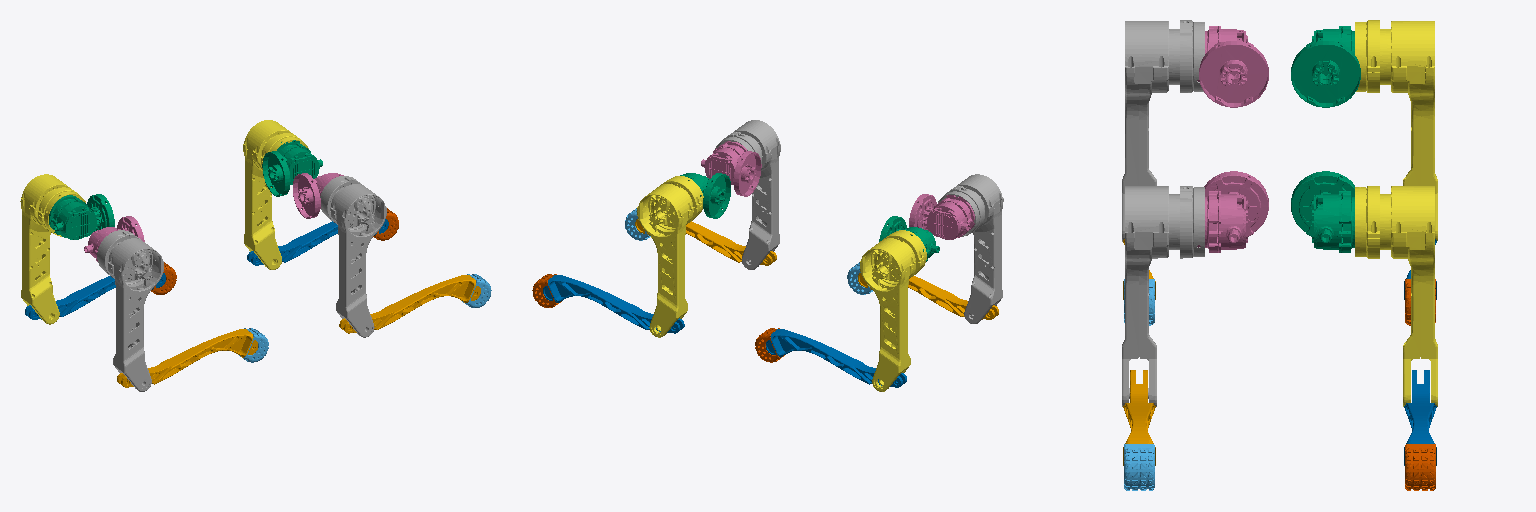
robot.urdf — bpx:
<?xml version="1.0"?>
<robot name="bpx">
  <!-- ROS 표준 루트: base_link -> torso (zero offset). 원본 mirrormerobotics/BPX 에는 없음 -->
  <link name="base_link" />
  <joint name="base_link_to_torso" type="fixed">
    <parent link="base_link" />
    <child link="torso" />
    <origin xyz="0 0 0" rpy="0 0 0" />
  </joint>
  <link name="torso">
    <visual>
      <origin xyz="0 0 0" rpy="0 0 0" />
      <geometry>
        <mesh filename="package://bpx_ros/meshes/torso.obj" />
      </geometry>
    </visual>
    <collision>
      <origin xyz="0 0 0" rpy="0 0 0" />
      <geometry>
        <box size="0.3412 0.16 0.1582" />
      </geometry>
    </collision>
    <collision>
      <origin xyz="0 0 -0.09" rpy="0 0 0" />
      <geometry>
        <box size="0.3412 0.16 0.028" />
      </geometry>
    </collision>
    <collision>
      <origin xyz="0.28 0 0" rpy="0 0 0" />
      <geometry>
        <box size="0.01329 0.136 0.026" />
      </geometry>
    </collision>
    <collision>
      <origin xyz="-0.28 0 0" rpy="0 0 0" />
      <geometry>
        <box size="0.01329 0.136 0.026" />
      </geometry>
    </collision>
    <inertial>
      <origin xyz="0.0151448 0.0033341 -0.0031076" rpy="0 0 0" />
      <mass value="6.829" />
      <inertia ixx="0.0291671" ixy="0.0019891" ixz="0.0003146" iyy="0.1285119" iyz="0.0000812" izz="0.1380718" />
    </inertial>
  </link>
  <link name="fl_hip_link">
    <visual>
      <origin xyz="0 0 0" rpy="0 0 0" />
      <geometry>
        <mesh filename="package://bpx_ros/meshes/hip.obj" />
      </geometry>
    </visual>
    <inertial>
      <origin xyz="-0.0116642 0.0141251 0.000331" rpy="0 0 0" />
      <mass value="0.554" />
      <inertia ixx="0.00033" ixy="0.00004" ixz="0" iyy="0.00042" iyz="0" izz="0.000375" />
    </inertial>
  </link>
  <link name="fl_thigh_link">
    <visual>
      <origin xyz="0 0 0" rpy="0 0 0" />
      <geometry>
        <mesh filename="package://bpx_ros/meshes/l_thigh.obj" />
      </geometry>
    </visual>
    <collision>
      <origin xyz="0 -0.02482 0" rpy="-1.5707963 0 0" />
      <geometry>
        <cylinder radius="0.044" length="0.08" />
      </geometry>
    </collision>
    <collision>
      <origin xyz="-0.02 0.0017152 -0.11" rpy="-1.5707963 0 0" />
      <geometry>
        <box size="0.045 0.13 0.029" />
      </geometry>
    </collision>
    <inertial>
      <origin xyz="-0.003 -0.021 -0.05052" rpy="0 0 0" />
      <mass value="1.213" />
      <inertia ixx="0.0083046" ixy="-0.0000872" ixz="0.0003596" iyy="0.008163" iyz="-0.0013242" izz="0.0013678" />
    </inertial>
  </link>
  <link name="fl_calf_link">
    <visual>
      <origin xyz="0 0 0" rpy="0 0 0" />
      <geometry>
        <mesh filename="package://bpx_ros/meshes/calf.obj" />
      </geometry>
    </visual>
    <collision>
      <origin xyz="0.01 0 -0.1" rpy="0 -0.1396263 0" />
      <geometry>
        <box size="0.02 0.02 0.15" />
      </geometry>
    </collision>
    <collision>
      <origin xyz="0.011 0 -0.205" rpy="0 0.1221731 0" />
      <geometry>
        <box size="0.03 0.02 0.07" />
      </geometry>
    </collision>
    <inertial>
      <origin xyz="0.0057553 0 -0.10442" rpy="0 0 0" />
      <mass value="0.253" />
      <inertia ixx="0.00199" ixy="0" ixz="-0.0001442" iyy="0.00201" iyz="0" izz="0.00005" />
    </inertial>
  </link>
  <link name="fl_toe_link">
    <visual>
      <origin xyz="0 0 0" rpy="0 0 0" />
      <geometry>
        <mesh filename="package://bpx_ros/meshes/toe.obj" />
      </geometry>
    </visual>
    <collision>
      <origin xyz="0 0 -0.012" rpy="-1.5707963 0 0" />
      <geometry>
        <cylinder radius="0.027" length="0.0358" />
      </geometry>
    </collision>
    <inertial>
      <origin xyz="-0.0089593 0 -0.014631" rpy="0 0 0" />
      <mass value="0.062" />
      <inertia ixx="0.000019" ixy="0" ixz="0.0000027" iyy="0.0000263" iyz="0" izz="0.0000225" />
    </inertial>
  </link>
  <link name="fr_hip_link">
    <visual>
      <origin xyz="0 0 0" rpy="3.1416 0 0" />
      <geometry>
        <mesh filename="package://bpx_ros/meshes/hip.obj" />
      </geometry>
    </visual>
    <inertial>
      <origin xyz="-0.0116642 -0.0141251 0.000331" rpy="0 0 0" />
      <mass value="0.554" />
      <inertia ixx="0.00033" ixy="-0.00004" ixz="0" iyy="0.00042" iyz="0" izz="0.000375" />
    </inertial>
  </link>
  <link name="fr_thigh_link">
    <visual>
      <origin xyz="0 0 0" rpy="0 0 0" />
      <geometry>
        <mesh filename="package://bpx_ros/meshes/r_thigh.obj" />
      </geometry>
    </visual>
    <collision>
      <origin xyz="0 0.02482 0" rpy="-1.5707963 0 0" />
      <geometry>
        <cylinder radius="0.044" length="0.08" />
      </geometry>
    </collision>
    <collision>
      <origin xyz="-0.02 -0.0017152 -0.11" rpy="-1.5707963 0 0" />
      <geometry>
        <box size="0.045 0.13 0.029" />
      </geometry>
    </collision>
    <inertial>
      <origin xyz="-0.003 0.021 -0.05052" rpy="0 0 0" />
      <mass value="1.213" />
      <inertia ixx="0.0083046" ixy="0.0000872" ixz="0.0003596" iyy="0.008163" iyz="0.0013242" izz="0.0013678" />
    </inertial>
  </link>
  <link name="fr_calf_link">
    <visual>
      <origin xyz="0 0 0" rpy="0 0 0" />
      <geometry>
        <mesh filename="package://bpx_ros/meshes/calf.obj" />
      </geometry>
    </visual>
    <collision>
      <origin xyz="0.01 0 -0.1" rpy="0 -0.1396263 0" />
      <geometry>
        <box size="0.02 0.02 0.15" />
      </geometry>
    </collision>
    <collision>
      <origin xyz="0.011 0 -0.205" rpy="0 0.1221731 0" />
      <geometry>
        <box size="0.03 0.02 0.07" />
      </geometry>
    </collision>
    <inertial>
      <origin xyz="0.0057553 0 -0.10442" rpy="0 0 0" />
      <mass value="0.253" />
      <inertia ixx="0.00199" ixy="0" ixz="-0.0001442" iyy="0.00201" iyz="0" izz="0.00005" />
    </inertial>
  </link>
  <link name="fr_toe_link">
    <visual>
      <origin xyz="0 0 0" rpy="0 0 0" />
      <geometry>
        <mesh filename="package://bpx_ros/meshes/toe.obj" />
      </geometry>
    </visual>
    <collision>
      <origin xyz="0 0 -0.012" rpy="-1.5707963 0 0" />
      <geometry>
        <cylinder radius="0.027" length="0.0358" />
      </geometry>
    </collision>
    <inertial>
      <origin xyz="-0.0089593 0 -0.014631" rpy="0 0 0" />
      <mass value="0.062" />
      <inertia ixx="0.000019" ixy="0" ixz="0.0000027" iyy="0.0000263" iyz="0" izz="0.0000225" />
    </inertial>
  </link>
  <link name="hl_hip_link">
    <visual>
      <origin xyz="0 0 0" rpy="3.1416 0 3.1416" />
      <geometry>
        <mesh filename="package://bpx_ros/meshes/hip.obj" />
      </geometry>
    </visual>
    <inertial>
      <origin xyz="-0.0116642 0.0141251 0.000331" rpy="0 0 0" />
      <mass value="0.554" />
      <inertia ixx="0.00033" ixy="0.00004" ixz="0" iyy="0.00042" iyz="0" izz="0.000375" />
    </inertial>
  </link>
  <link name="hl_thigh_link">
    <visual>
      <origin xyz="0 0 0" rpy="0 0 0" />
      <geometry>
        <mesh filename="package://bpx_ros/meshes/l_thigh.obj" />
      </geometry>
    </visual>
    <collision>
      <origin xyz="0 -0.02482 0" rpy="-1.5707963 0 0" />
      <geometry>
        <cylinder radius="0.044" length="0.08" />
      </geometry>
    </collision>
    <collision>
      <origin xyz="-0.02 0.0017152 -0.11" rpy="-1.5707963 0 0" />
      <geometry>
        <box size="0.045 0.13 0.029" />
      </geometry>
    </collision>
    <inertial>
      <origin xyz="-0.003 -0.021 -0.05052" rpy="0 0 0" />
      <mass value="1.213" />
      <inertia ixx="0.0083046" ixy="-0.0000872" ixz="0.0003596" iyy="0.008163" iyz="-0.0013242" izz="0.0013678" />
    </inertial>
  </link>
  <link name="hl_calf_link">
    <visual>
      <origin xyz="0 0 0" rpy="0 0 0" />
      <geometry>
        <mesh filename="package://bpx_ros/meshes/calf.obj" />
      </geometry>
    </visual>
    <collision>
      <origin xyz="0.01 0 -0.1" rpy="0 -0.1396263 0" />
      <geometry>
        <box size="0.02 0.02 0.15" />
      </geometry>
    </collision>
    <collision>
      <origin xyz="0.011 0 -0.205" rpy="0 0.1221731 0" />
      <geometry>
        <box size="0.03 0.02 0.07" />
      </geometry>
    </collision>
    <inertial>
      <origin xyz="0.0057553 0 -0.10442" rpy="0 0 0" />
      <mass value="0.253" />
      <inertia ixx="0.00199" ixy="0" ixz="-0.0001442" iyy="0.00201" iyz="0" izz="0.00005" />
    </inertial>
  </link>
  <link name="hl_toe_link">
    <visual>
      <origin xyz="0 0 0" rpy="0 0 0" />
      <geometry>
        <mesh filename="package://bpx_ros/meshes/toe.obj" />
      </geometry>
    </visual>
    <collision>
      <origin xyz="0 0 -0.012" rpy="-1.5707963 0 0" />
      <geometry>
        <cylinder radius="0.027" length="0.0358" />
      </geometry>
    </collision>
    <inertial>
      <origin xyz="-0.0089593 0 -0.014631" rpy="0 0 0" />
      <mass value="0.062" />
      <inertia ixx="0.000019" ixy="0" ixz="0.0000027" iyy="0.0000263" iyz="0" izz="0.0000225" />
    </inertial>
  </link>
  <link name="hr_hip_link">
    <visual>
      <origin xyz="0 0 0" rpy="0 0 3.1416" />
      <geometry>
        <mesh filename="package://bpx_ros/meshes/hip.obj" />
      </geometry>
    </visual>
    <inertial>
      <origin xyz="-0.0116642 -0.0141251 0.000331" rpy="0 0 0" />
      <mass value="0.554" />
      <inertia ixx="0.00033" ixy="-0.00004" ixz="0" iyy="0.00042" iyz="0" izz="0.000375" />
    </inertial>
  </link>
  <link name="hr_thigh_link">
    <visual>
      <origin xyz="0 0 0" rpy="0 0 0" />
      <geometry>
        <mesh filename="package://bpx_ros/meshes/r_thigh.obj" />
      </geometry>
    </visual>
    <collision>
      <origin xyz="0 0.02482 0" rpy="-1.5707963 0 0" />
      <geometry>
        <cylinder radius="0.044" length="0.08" />
      </geometry>
    </collision>
    <collision>
      <origin xyz="-0.02 -0.0017152 -0.11" rpy="-1.5707963 0 0" />
      <geometry>
        <box size="0.045 0.13 0.029" />
      </geometry>
    </collision>
    <inertial>
      <origin xyz="-0.003 0.021 -0.05052" rpy="0 0 0" />
      <mass value="1.213" />
      <inertia ixx="0.0083046" ixy="0.0000872" ixz="0.0003596" iyy="0.008163" iyz="0.0013242" izz="0.0013678" />
    </inertial>
  </link>
  <link name="hr_calf_link">
    <visual>
      <origin xyz="0 0 0" rpy="0 0 0" />
      <geometry>
        <mesh filename="package://bpx_ros/meshes/calf.obj" />
      </geometry>
    </visual>
    <collision>
      <origin xyz="0.01 0 -0.1" rpy="0 -0.1396263 0" />
      <geometry>
        <box size="0.02 0.02 0.15" />
      </geometry>
    </collision>
    <collision>
      <origin xyz="0.011 0 -0.205" rpy="0 0.1221731 0" />
      <geometry>
        <box size="0.03 0.02 0.07" />
      </geometry>
    </collision>
    <inertial>
      <origin xyz="0.0057553 0 -0.10442" rpy="0 0 0" />
      <mass value="0.253" />
      <inertia ixx="0.00199" ixy="0" ixz="-0.0001442" iyy="0.00201" iyz="0" izz="0.00005" />
    </inertial>
  </link>
  <link name="hr_toe_link">
    <visual>
      <origin xyz="0 0 0" rpy="0 0 0" />
      <geometry>
        <mesh filename="package://bpx_ros/meshes/toe.obj" />
      </geometry>
    </visual>
    <collision>
      <origin xyz="0 0 -0.012" rpy="-1.5707963 0 0" />
      <geometry>
        <cylinder radius="0.027" length="0.0358" />
      </geometry>
    </collision>
    <inertial>
      <origin xyz="-0.0089593 0 -0.014631" rpy="0 0 0" />
      <mass value="0.062" />
      <inertia ixx="0.000019" ixy="0" ixz="0.0000027" iyy="0.0000263" iyz="0" izz="0.0000225" />
    </inertial>
  </link>
  <joint name="fl_hip_roll_joint" type="revolute">
    <parent link="torso" />
    <child link="fl_hip_link" />
    <origin xyz="0.2386 0.056 0" rpy="0 0 0" />
    <axis xyz="1 0 0" />
    <limit lower="-0.8727" upper="0.8727" effort="30" velocity="20" />
  </joint>
  <joint name="fl_hip_pitch_joint" type="revolute">
    <parent link="fl_hip_link" />
    <child link="fl_thigh_link" />
    <origin xyz="0 0.11522 0" rpy="0 0 0" />
    <axis xyz="0 1 0" />
    <limit lower="-0.7854" upper="2.60661" effort="30" velocity="20" />
  </joint>
  <joint name="fl_knee_joint" type="revolute">
    <parent link="fl_thigh_link" />
    <child link="fl_calf_link" />
    <origin xyz="0 0 -0.23" rpy="0 0 0" />
    <axis xyz="0 1 0" />
    <limit lower="-2.7531" upper="-0.5539" effort="30" velocity="20" />
  </joint>
  <joint name="fl_ankle_joint" type="fixed" dont_collapse="true">
    <parent link="fl_calf_link" />
    <child link="fl_toe_link" />
    <origin xyz="0 0 -0.2315648" rpy="0 0 0" />
  </joint>
  <joint name="fr_hip_roll_joint" type="revolute">
    <parent link="torso" />
    <child link="fr_hip_link" />
    <origin xyz="0.2386 -0.056 0" rpy="0 0 0" />
    <axis xyz="1 0 0" />
    <limit lower="-0.8727" upper="0.8727" effort="30" velocity="20" />
  </joint>
  <joint name="fr_hip_pitch_joint" type="revolute">
    <parent link="fr_hip_link" />
    <child link="fr_thigh_link" />
    <origin xyz="0 -0.11522 0" rpy="0 0 0" />
    <axis xyz="0 1 0" />
    <limit lower="-0.7854" upper="2.60661" effort="30" velocity="20" />
  </joint>
  <joint name="fr_knee_joint" type="revolute">
    <parent link="fr_thigh_link" />
    <child link="fr_calf_link" />
    <origin xyz="0 0 -0.23" rpy="0 0 0" />
    <axis xyz="0 1 0" />
    <limit lower="-2.7531" upper="-0.5539" effort="30" velocity="20" />
  </joint>
  <joint name="fr_ankle_joint" type="fixed" dont_collapse="true">
    <parent link="fr_calf_link" />
    <child link="fr_toe_link" />
    <origin xyz="0 0 -0.2315648" rpy="0 0 0" />
  </joint>
  <joint name="hl_hip_roll_joint" type="revolute">
    <parent link="torso" />
    <child link="hl_hip_link" />
    <origin xyz="-0.2386 0.056 0" rpy="0 0 0" />
    <axis xyz="1 0 0" />
    <limit lower="-0.8727" upper="0.8727" effort="30" velocity="20" />
  </joint>
  <joint name="hl_hip_pitch_joint" type="revolute">
    <parent link="hl_hip_link" />
    <child link="hl_thigh_link" />
    <origin xyz="0 0.11522 0" rpy="0 0 0" />
    <axis xyz="0 1 0" />
    <limit lower="-0.7854" upper="2.60661" effort="30" velocity="20" />
  </joint>
  <joint name="hl_knee_joint" type="revolute">
    <parent link="hl_thigh_link" />
    <child link="hl_calf_link" />
    <origin xyz="0 0 -0.23" rpy="0 0 0" />
    <axis xyz="0 1 0" />
    <limit lower="-2.7531" upper="-0.5539" effort="30" velocity="20" />
  </joint>
  <joint name="hl_ankle_joint" type="fixed" dont_collapse="true">
    <parent link="hl_calf_link" />
    <child link="hl_toe_link" />
    <origin xyz="0 0 -0.2315648" rpy="0 0 0" />
  </joint>
  <joint name="hr_hip_roll_joint" type="revolute">
    <parent link="torso" />
    <child link="hr_hip_link" />
    <origin xyz="-0.2386 -0.056 0" rpy="0 0 0" />
    <axis xyz="1 0 0" />
    <limit lower="-0.8727" upper="0.8727" effort="30" velocity="20" />
  </joint>
  <joint name="hr_hip_pitch_joint" type="revolute">
    <parent link="hr_hip_link" />
    <child link="hr_thigh_link" />
    <origin xyz="0 -0.11522 0" rpy="0 0 0" />
    <axis xyz="0 1 0" />
    <limit lower="-0.7854" upper="2.60661" effort="30" velocity="20" />
  </joint>
  <joint name="hr_knee_joint" type="revolute">
    <parent link="hr_thigh_link" />
    <child link="hr_calf_link" />
    <origin xyz="0 0 -0.23" rpy="0 0 0" />
    <axis xyz="0 1 0" />
    <limit lower="-2.7531" upper="-0.5539" effort="30" velocity="20" />
  </joint>
  <joint name="hr_ankle_joint" type="fixed" dont_collapse="true">
    <parent link="hr_calf_link" />
    <child link="hr_toe_link" />
    <origin xyz="0 0 -0.2315648" rpy="0 0 0" />
  </joint>
</robot>

--- Facts derived from the render (not from the file) ---
Views: 3 orthographic renders of the robot side by side, from view 1: azimuth 30°, elevation 25°; view 2: azimuth 150°, elevation 25°; view 3: azimuth 270°, elevation 25°.
Robot: bpx — 18 links, 17 joints (12 revolute, 5 fixed); root link base_link; default pose: all joints at 0 but 4 set to mid-range because 0 is outside their limits (fl_knee_joint = -1.65, fr_knee_joint = -1.65, hl_knee_joint = -1.65, hr_knee_joint = -1.65).
Visible links, largest first — view 1: hr_thigh_link, fr_thigh_link, hl_thigh_link, fl_thigh_link, hl_hip_link, hr_calf_link, fr_calf_link, fl_hip_link, fr_hip_link, fl_calf_link, hl_calf_link, hr_hip_link; view 2: hl_thigh_link, fl_thigh_link, hr_thigh_link, fr_thigh_link, hr_hip_link, hl_calf_link, fl_calf_link, fr_hip_link, fl_hip_link, fr_calf_link, hr_calf_link, hl_hip_link; view 3: fl_thigh_link, fr_thigh_link, hl_thigh_link, hr_thigh_link, hr_hip_link, hl_hip_link, fr_hip_link, fl_hip_link, fl_calf_link, fr_calf_link, fl_toe_link, fr_toe_link.
Boxes of the visible links, x1=… form: hr_thigh_link: x1=97, y1=230, x2=163, y2=391; fr_thigh_link: x1=320, y1=176, x2=386, y2=337; hl_thigh_link: x1=20, y1=174, x2=85, y2=324; fl_thigh_link: x1=243, y1=120, x2=308, y2=269; hl_hip_link: x1=49, y1=194, x2=114, y2=239; hr_calf_link: x1=117, y1=329, x2=257, y2=387; fr_calf_link: x1=339, y1=275, x2=480, y2=333; fl_hip_link: x1=262, y1=140, x2=322, y2=196; fr_hip_link: x1=293, y1=173, x2=343, y2=218; fl_calf_link: x1=247, y1=219, x2=388, y2=265; hl_calf_link: x1=25, y1=273, x2=165, y2=319; hr_hip_link: x1=84, y1=216, x2=144, y2=261; hl_thigh_link: x1=860, y1=230, x2=926, y2=391; fl_thigh_link: x1=637, y1=176, x2=703, y2=337; hr_thigh_link: x1=938, y1=174, x2=1003, y2=323; fr_thigh_link: x1=715, y1=120, x2=780, y2=269; hr_hip_link: x1=909, y1=194, x2=974, y2=239; hl_calf_link: x1=766, y1=329, x2=906, y2=387; fl_calf_link: x1=543, y1=275, x2=684, y2=333; fr_hip_link: x1=701, y1=141, x2=761, y2=196; fl_hip_link: x1=680, y1=173, x2=730, y2=218; fr_calf_link: x1=635, y1=219, x2=776, y2=265; hr_calf_link: x1=858, y1=273, x2=998, y2=319; hl_hip_link: x1=879, y1=216, x2=939, y2=261; fl_thigh_link: x1=1355, y1=186, x2=1437, y2=406; fr_thigh_link: x1=1122, y1=186, x2=1204, y2=406; hl_thigh_link: x1=1355, y1=20, x2=1437, y2=240; hr_thigh_link: x1=1122, y1=20, x2=1204, y2=241; hr_hip_link: x1=1197, y1=26, x2=1268, y2=107; hl_hip_link: x1=1291, y1=26, x2=1360, y2=107; fr_hip_link: x1=1197, y1=171, x2=1268, y2=252; fl_hip_link: x1=1291, y1=171, x2=1354, y2=252; fl_calf_link: x1=1404, y1=370, x2=1436, y2=465; fr_calf_link: x1=1123, y1=370, x2=1155, y2=465; fl_toe_link: x1=1405, y1=444, x2=1435, y2=490; fr_toe_link: x1=1124, y1=444, x2=1154, y2=490.
Size in the robot's own frame: 0.7955 by 0.3858 by 0.2943 metres.
Meshes: 6 distinct files referenced, 16 mesh visuals loaded (5 OBJ); not drawn: 1 (reference not matched to a file when rendering).
